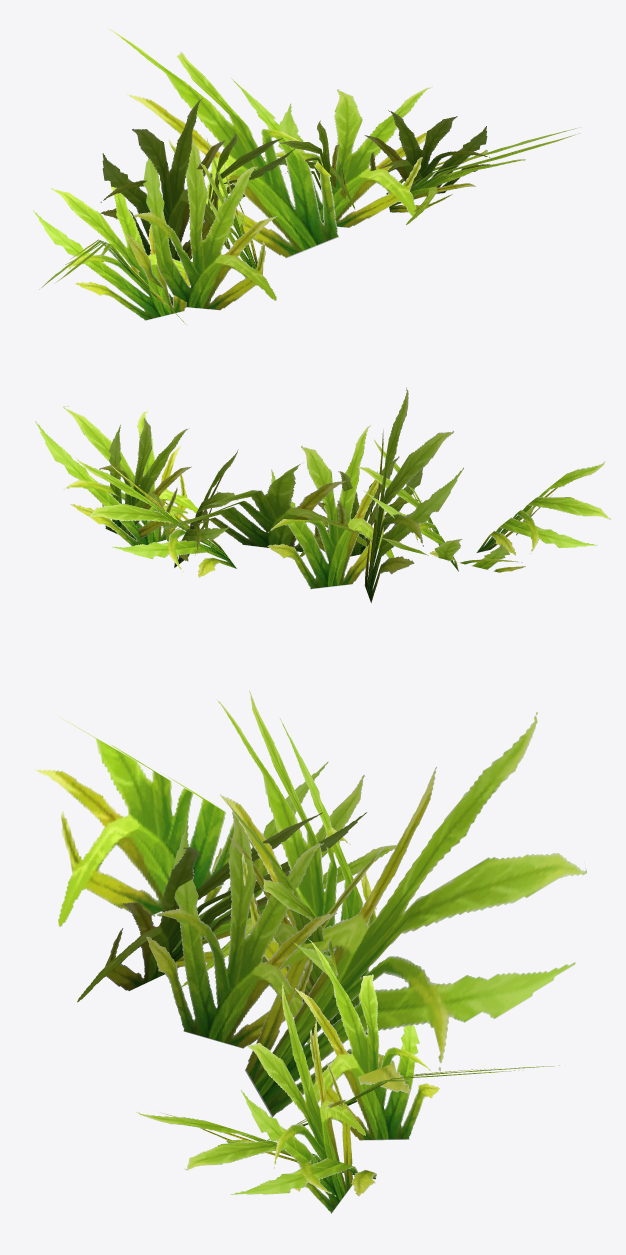
The model's file is grass_02.FBX.
3 views of the same model, one above another, from view 1: azimuth 30°, elevation 25°; view 2: azimuth 150°, elevation 25°; view 3: azimuth 270°, elevation 25° (orthographic). The views are drawn at different scales.
Visible parts, largest first — view 1: grass_02; view 2: grass_02; view 3: grass_02.
Boxes of the visible parts, <box> form: grass_02: <box>32,28,581,324</box>; grass_02: <box>35,387,610,602</box>; grass_02: <box>35,691,586,1213</box>.
Size of the model in its own units: 1018 by 333 by 550.
Materials: 1 (1 with a texture image).
